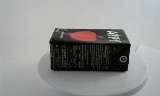appy: (44, 26, 122, 72)
